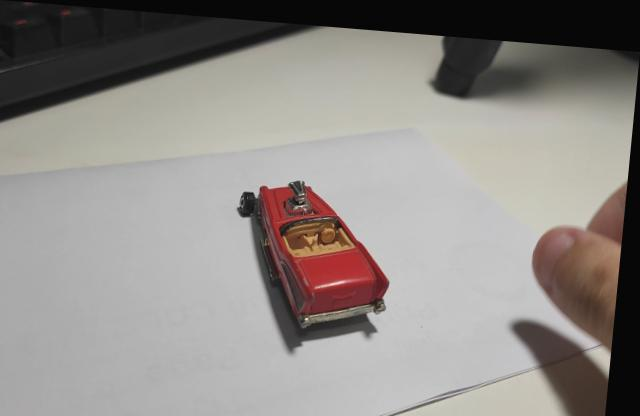03_V8: (241, 176, 396, 324)
